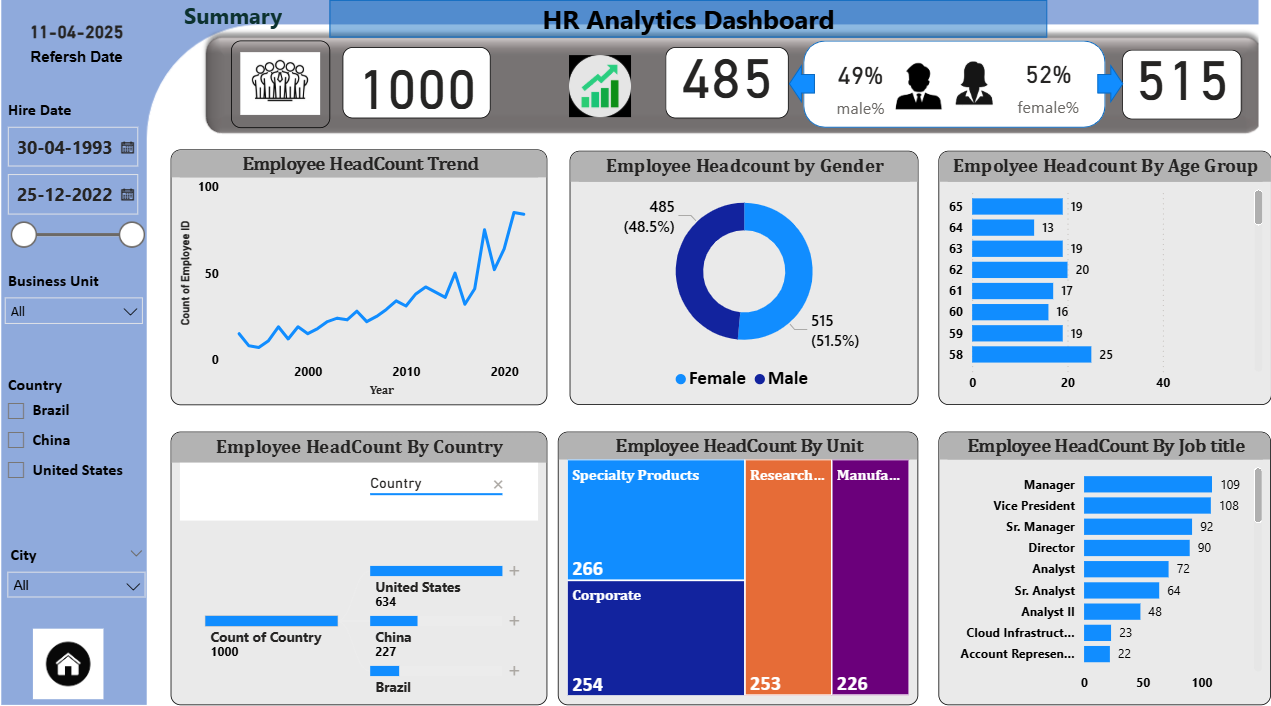

This screenshot's page, from the dashboard's own definition file:
{"tool":"powerbi","page":{"name":"HR analysis","canvas":[1280,720],"ordinal":1},"visuals":[{"type":"card","fields":{"Values":["Employee Data.total_count"]},"box":[357.1,58.6,145.7,70],"z":0},{"type":"image","box":[247.1,51.4,97.1,85.7],"z":1000},{"type":"lineChart","title":"Employee HeadCount Trend","fields":{"Category":["Employee Data.Hire Date.Variation.Date Hierarchy.Year"],"Y":["CountNonNull(Employee Data.Employee ID)"]},"box":[188.8,158.8,370,251.2],"z":2000},{"type":"donutChart","title":"Employee Headcount by Gender","fields":{"Category":["Employee Data.Gender"],"Y":["CountNonNull(Employee Data.Employee ID)"]},"box":[580,160,342.9,250],"z":3000},{"type":"clusteredBarChart","title":"Empolyee Headcount By Age Group","fields":{"Category":["Employee Data.Age"],"Y":["CountNonNull(Employee Data.Employee ID)"]},"box":[942.5,160,327.5,250],"z":4000},{"type":"decompositionTreeVisual","title":"Employee HeadCount By Country","fields":{"Analyze":["CountNonNull(Employee Data.Country)"],"ExplainBy":["Employee Data.Country","Employee Data.City"]},"box":[188.6,435.7,370,268.6],"z":5000},{"type":"treemap","title":"Employee HeadCount By Unit","fields":{"Group":["Employee Data.Business Unit"],"Values":["CountNonNull(Employee Data.Employee ID)"]},"box":[568.6,435.7,354.3,268.6],"z":6000},{"type":"barChart","title":"Employee HeadCount By Job title","fields":{"Category":["Employee Data.Job Title"],"Y":["CountNonNull(Employee Data.Employee ID)"]},"box":[942.9,435.7,327.1,268.6],"z":7000},{"type":"card","fields":{"Values":["Employee Data.total_male_count"]},"box":[674.3,58.6,121.4,70],"z":8000},{"type":"card","fields":{"Values":["Employee Data.total_female_count"]},"box":[1124.3,60,117.1,68.6],"z":9000},{"type":"shape","box":[810,51.4,297.1,85.7],"z":10000},{"type":"image","box":[942.5,58.8,70,68.8],"z":11000},{"type":"image","box":[885.7,48.6,74.3,90],"z":12000},{"type":"card","fields":{"Values":["Employee Data.male%"]},"box":[821.4,61.4,88.6,67.1],"z":13000},{"type":"card","fields":{"Values":["Employee Data.female%"]},"box":[1005.7,60,88.6,67.1],"z":14000},{"type":"shape","box":[795.7,74.3,25.7,38.6],"z":15000},{"type":"shape","box":[1098.6,74.3,25.7,38.6],"z":16000},{"type":"slicer","fields":{"Values":["Employee Data.Business Unit"]},"box":[15.7,272.9,155.7,87.1],"z":17000},{"type":"slicer","fields":{"Values":["Employee Data.Country"]},"box":[15.7,374.3,155.7,171.4],"z":18000},{"type":"slicer","fields":{"Values":["Employee Data.City"]},"box":[18.6,541.4,155.7,122.9],"z":19000},{"type":"slicer","fields":{"Values":["Employee Data.Hire Date"]},"box":[15.7,104.3,155.7,157.1],"z":20000},{"type":"shape","box":[344.3,11.4,705.7,37.1],"z":21000},{"type":"card","fields":{"Values":["Max(Query1.Date)"]},"box":[1.4,7.1,188.6,87.1],"z":22000},{"type":"image","box":[27.1,624.3,121.4,80],"z":23000},{"type":"actionButton","box":[154.8,5.2,189.6,43.9],"z":24000},{"type":"image","box":[558.6,60.6,103.2,71],"z":25000}]}

Visuals, with their boxes in screenshot pixels (x1, y1, x2, y2), scaled from the page's 1280x720 canvas onto the 1271x706 screenshot:
card - Employee Data.total_count: 355/57/499/126
image: 245/50/342/134
"Employee HeadCount Trend" lineChart: 187/156/555/402
"Employee Headcount by Gender" donutChart: 576/157/916/402
"Empolyee Headcount By Age Group" clusteredBarChart: 936/157/1261/402
"Employee HeadCount By Country" decompositionTreeVisual: 187/427/555/691
"Employee HeadCount By Unit" treemap: 565/427/916/691
"Employee HeadCount By Job title" barChart: 936/427/1261/691
card - Employee Data.total_male_count: 670/57/790/126
card - Employee Data.total_female_count: 1116/59/1233/126
shape: 804/50/1099/134
image: 936/58/1005/125
image: 879/48/953/136
card - Employee Data.male%: 816/60/904/126
card - Employee Data.female%: 999/59/1087/125
shape: 790/73/816/111
shape: 1091/73/1116/111
slicer - Employee Data.Business Unit: 16/268/170/353
slicer - Employee Data.Country: 16/367/170/535
slicer - Employee Data.City: 18/531/173/651
slicer - Employee Data.Hire Date: 16/102/170/256
shape: 342/11/1043/48
card - Max(Query1.Date): 1/7/189/92
image: 27/612/147/691
actionButton: 154/5/342/48
image: 555/59/657/129
